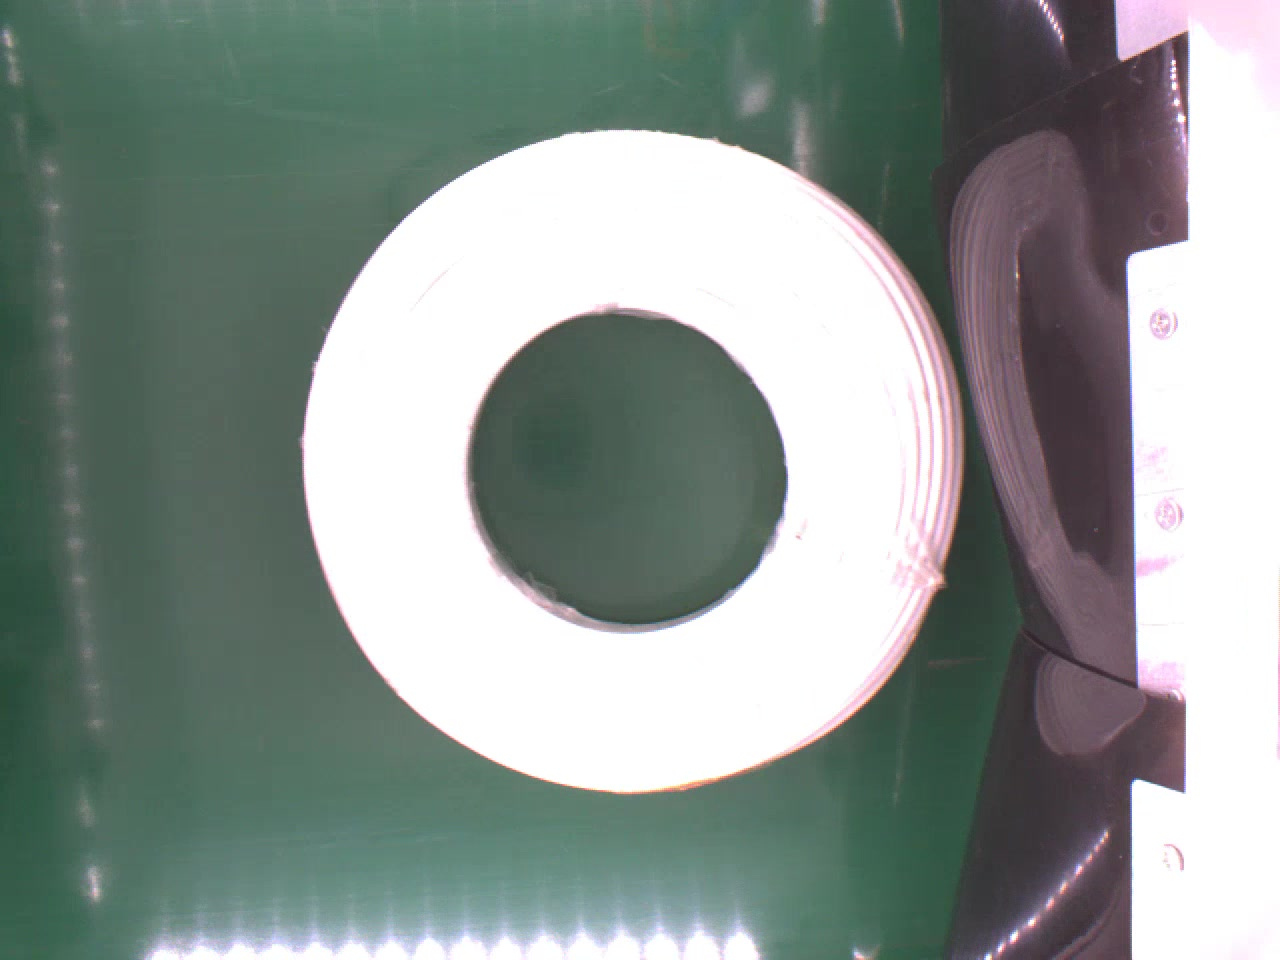white: (298, 124, 968, 797)
